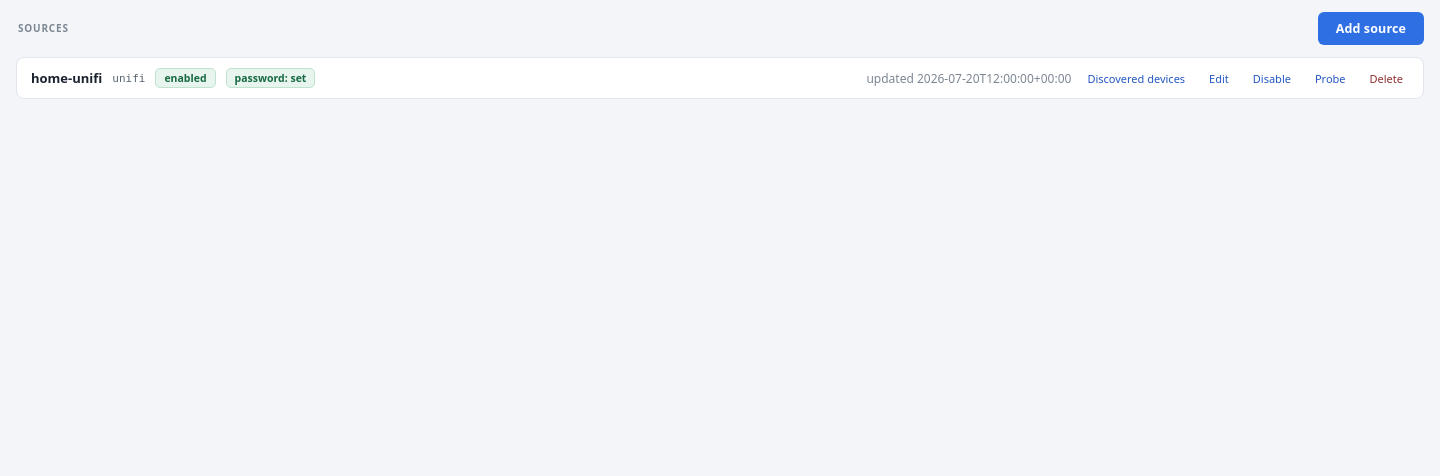
Test: SourcesPage: save warnings › shows no banner when the save returns no warnings
Click the button with aria-label "Edit home-unifi": (1219, 78) [1203,70,1235,86]
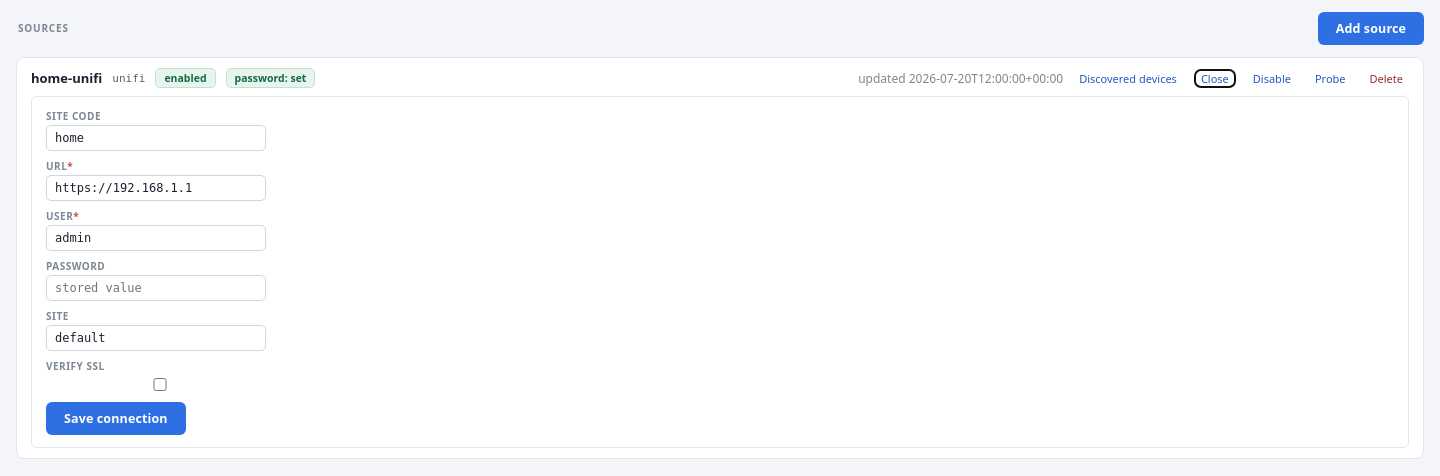
Click the button "Save connection": (116, 418) [46,402,186,435]
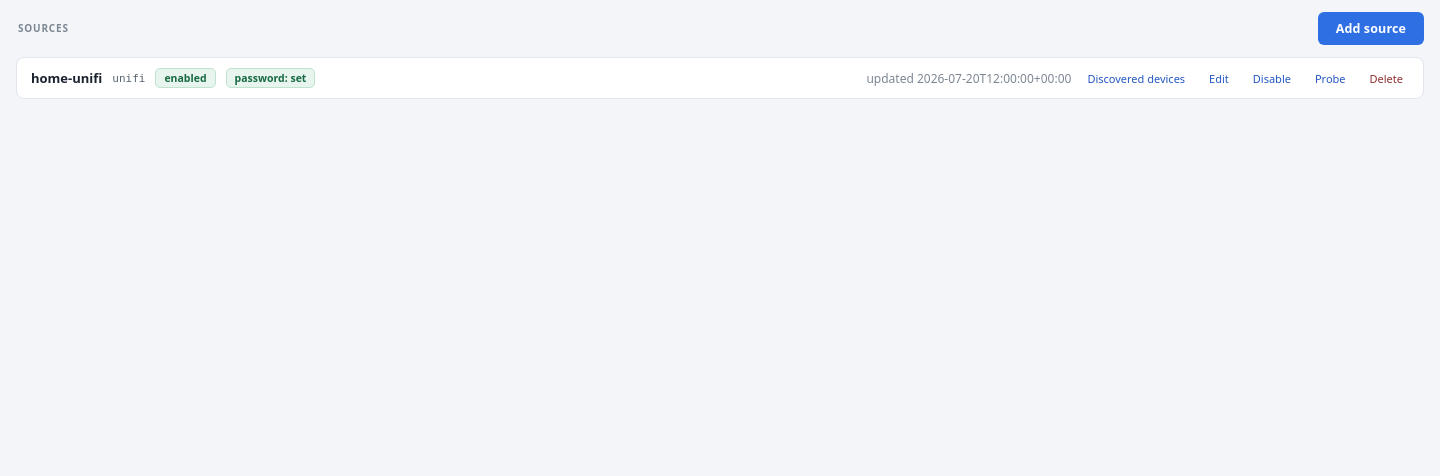
Expected: the button with aria-label "Edit home-unifi" is shown, [1203,70,1235,86]
Expected: the button "Save connection" is gone
